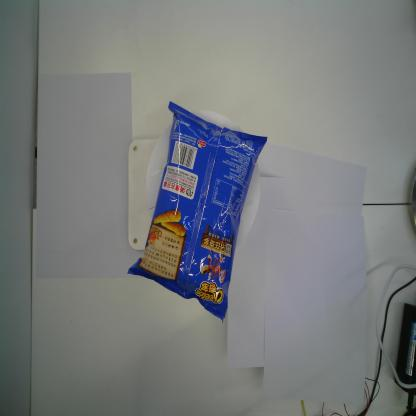Puffed Food: (125, 99, 268, 324)
